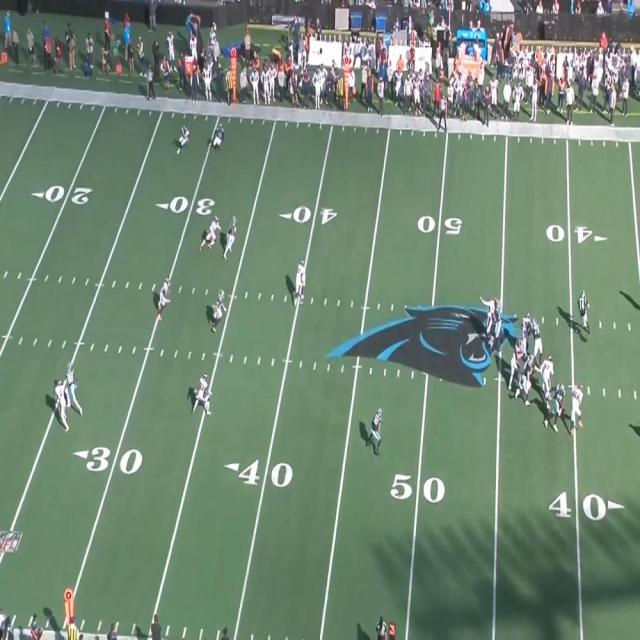db: (56, 378, 66, 428), (196, 374, 208, 414), (160, 278, 170, 320), (204, 217, 218, 246), (178, 125, 188, 153)
lb: (295, 258, 305, 298)
qb: (578, 290, 588, 340)
skill: (373, 408, 387, 452), (226, 212, 237, 258), (66, 364, 76, 412), (215, 122, 225, 154), (215, 292, 223, 331)
